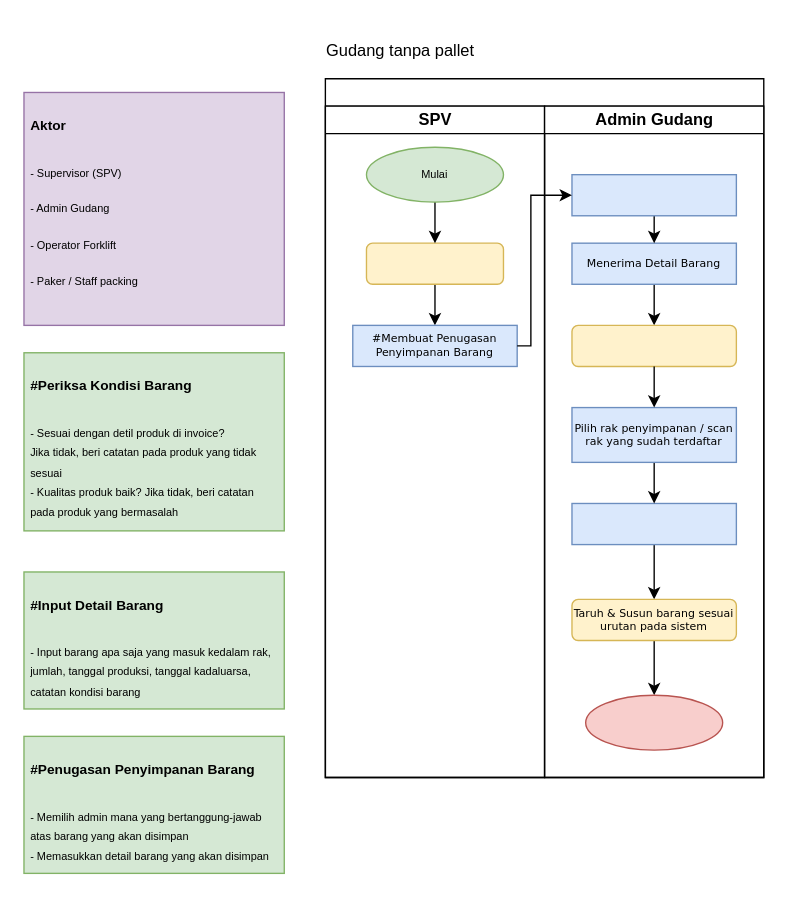
Some shapes in this 788 by 897 pixel diagram are drawn without their labels. Here are the shapes that lost their labels. From the top down, the centre of each, then its label:
At (653,194): "Menerima Penugasan Penyimpanan (ToDoList)".
At (434,263): "Terima Invoice".
At (653,345): "#Periksa Kondisi Barang".
At (653,523): "#Input Detail Barang".
At (653,722): "Selesai".
